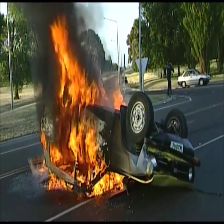fire_h: (50, 14, 108, 185), (85, 170, 124, 196), (47, 170, 73, 191)
fire_l: (113, 88, 126, 111), (38, 158, 50, 172), (40, 132, 47, 153)
